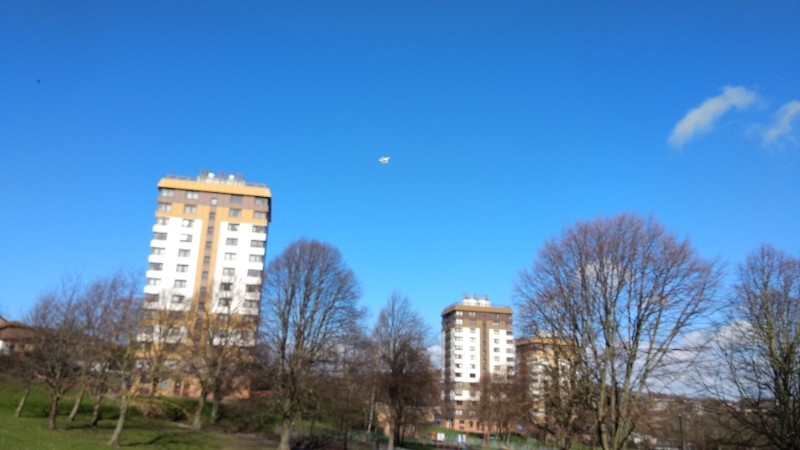drone: (377, 155, 391, 165)
